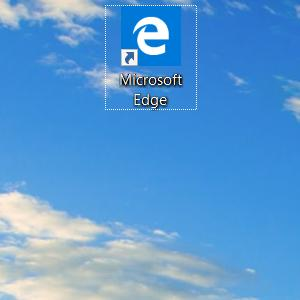edge: (121, 7, 180, 66)
